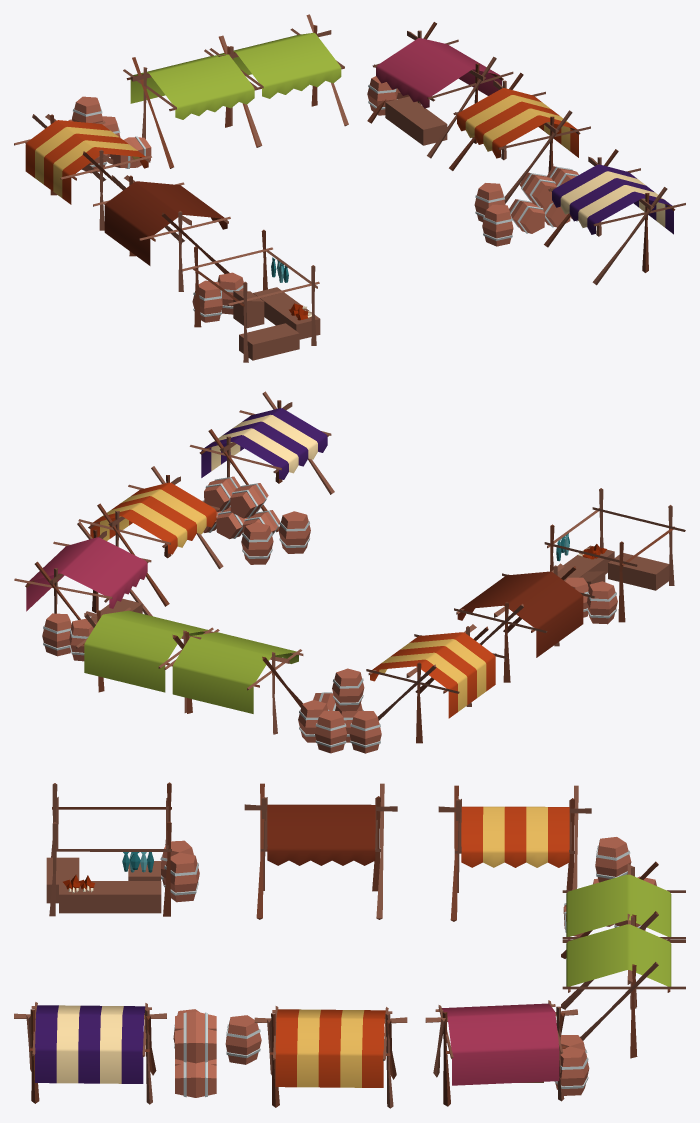
File: SM_Market_V3.fbx
3 views of the same model, one above another, from view 1: azimuth 30°, elevation 25°; view 2: azimuth 150°, elevation 25°; view 3: azimuth 270°, elevation 25° (orthographic). The views are drawn at different scales.
Visible parts, largest first — view 1: Plane.005; view 2: Plane.005; view 3: Plane.005.
Boxes of the visible parts, x1,y1,x2,y2 form: Plane.005: (14, 14, 685, 362); Plane.005: (14, 391, 685, 753); Plane.005: (14, 782, 685, 1108).
Bounding box in the file's own units: 1040 × 181 × 1127.
